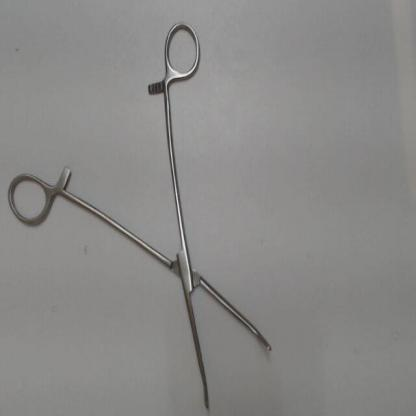Lahey Forceps: (5, 17, 282, 412)
